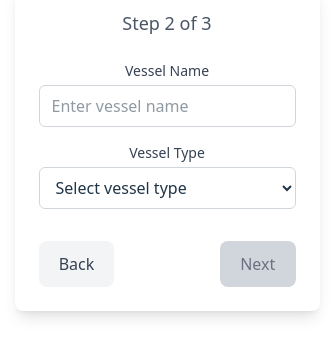
Test: Feature: Maritime Insurance Quote Request Wizard Step 2 Component › Scenario: Vessel type selection is required › should enable Next button when vessel type is selected
Type "MV Trade Wind" into the field with test id "vessel-name" at {"x": 167, "y": 106}, box [38,85,296,127]
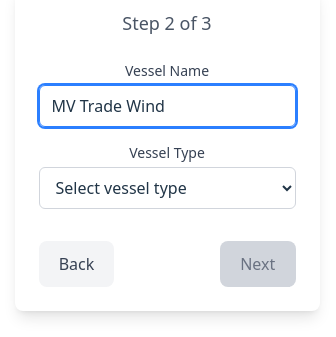
Select "Oil Tanker" in the dropdown with test id "vessel-type" at {"x": 167, "y": 188}, box [38,167,296,209]
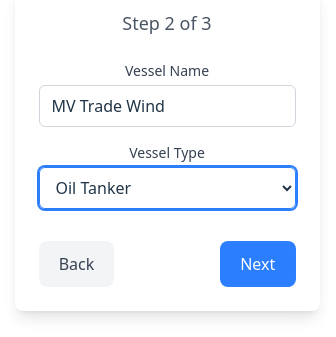
Expected: the button with test id "next-button" is enabled, [220,241,296,287]
